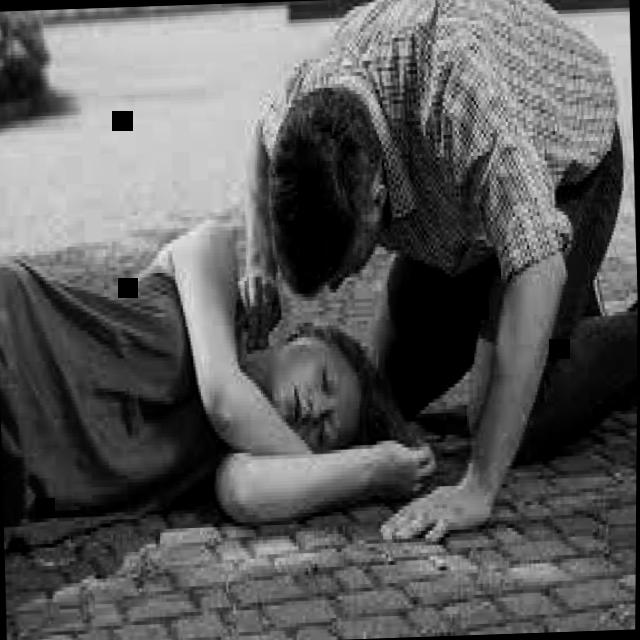Fall-Detected: (0, 132, 428, 570)
